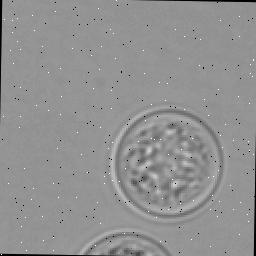picoshell: (109, 107, 225, 223), (78, 230, 169, 256)
